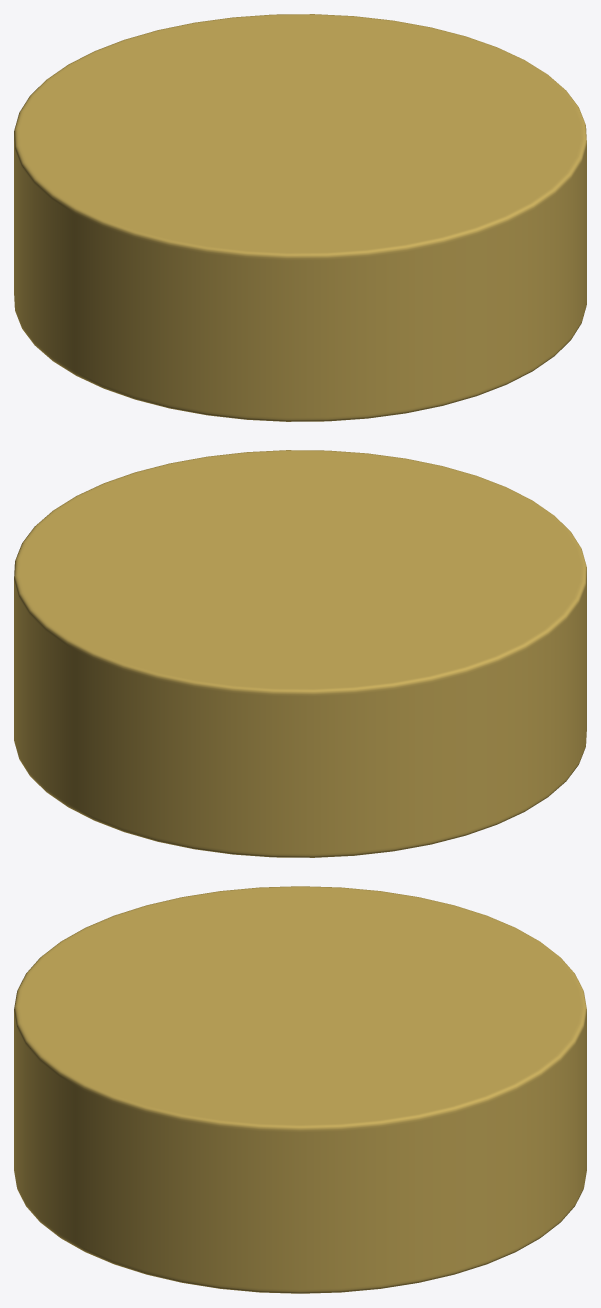
The model's file is TicTacToeCircle.fbx.
The picture shows the model from 3 angles, top to bottom: view 1: azimuth 30°, elevation 25°; view 2: azimuth 150°, elevation 25°; view 3: azimuth 270°, elevation 25°; orthographic projection.
Visible parts, largest first — view 1: mark_o; view 2: mark_o; view 3: mark_o.
Boxes of the visible parts, box(x1,y1,x2,y2) form: mark_o: box(14, 14, 586, 421); mark_o: box(14, 450, 586, 857); mark_o: box(14, 886, 586, 1293).
Bounding box in the file's own units: 9.62 × 3.1 × 9.62.
